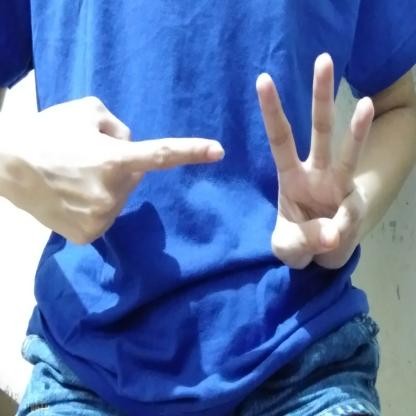why: (0, 50, 376, 274)
